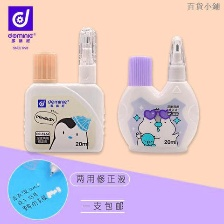correction_fluid: (22, 24, 106, 154), (115, 33, 200, 155)
